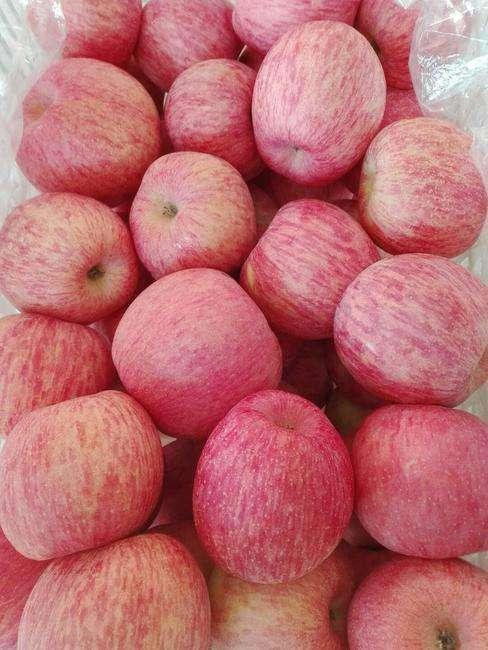apple: (194, 379, 363, 578), (113, 267, 277, 433), (1, 391, 164, 557), (15, 531, 211, 650), (335, 251, 487, 400), (249, 20, 386, 183), (342, 400, 480, 552), (15, 56, 158, 198), (6, 192, 141, 334), (354, 116, 485, 261), (243, 196, 377, 331), (133, 150, 254, 284), (197, 551, 352, 648), (342, 554, 488, 647), (2, 316, 112, 432), (166, 59, 254, 161), (137, 4, 236, 80), (355, 1, 418, 93)
